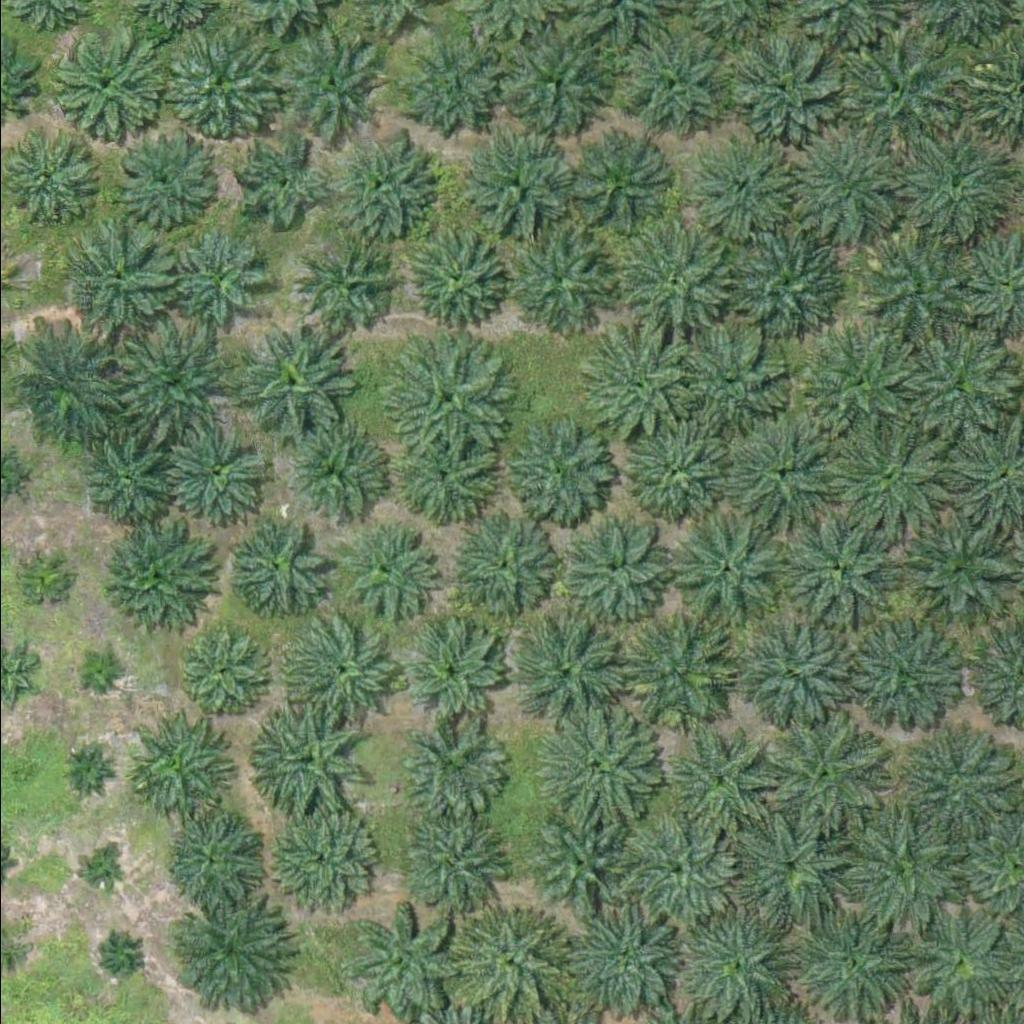Kelapa_Sawit: (841, 27, 967, 152), (712, 28, 838, 153), (492, 21, 618, 146), (774, 123, 900, 248), (884, 124, 1010, 249), (721, 221, 847, 346), (610, 217, 736, 342), (565, 325, 691, 450), (663, 318, 789, 443), (826, 410, 952, 535), (722, 412, 848, 537), (615, 408, 741, 533), (494, 404, 620, 529), (544, 506, 670, 631), (661, 506, 787, 631), (840, 616, 966, 741), (614, 612, 740, 737), (498, 611, 624, 736), (758, 709, 884, 834), (890, 716, 1016, 841), (827, 805, 953, 930), (724, 799, 850, 924), (602, 807, 728, 932), (551, 894, 677, 1019), (786, 897, 912, 1022), (244, 700, 370, 825), (278, 608, 404, 733), (383, 333, 509, 458), (113, 318, 239, 443), (2, 326, 128, 451), (779, 512, 904, 637), (891, 512, 1016, 637), (728, 612, 853, 737), (532, 707, 657, 832), (164, 896, 289, 1021), (156, 19, 281, 144), (37, 19, 162, 144), (94, 517, 208, 630), (612, 26, 725, 139), (905, 325, 1018, 438), (852, 234, 965, 347), (349, 908, 462, 1021), (263, 797, 376, 910), (57, 226, 170, 339), (322, 131, 435, 244), (391, 28, 504, 141), (273, 25, 386, 138), (164, 418, 278, 530), (244, 328, 358, 440), (562, 133, 675, 245), (496, 222, 609, 334), (454, 909, 567, 1021), (113, 706, 226, 818), (811, 333, 912, 433), (665, 732, 766, 832), (164, 807, 265, 907), (399, 813, 500, 913), (400, 712, 501, 812), (397, 622, 498, 722), (170, 621, 271, 721), (450, 510, 551, 610), (334, 522, 435, 622), (401, 424, 502, 524), (168, 230, 269, 330), (222, 134, 323, 234), (113, 129, 214, 229), (680, 145, 780, 245), (904, 913, 1004, 1013), (226, 514, 326, 614), (287, 427, 387, 527), (407, 227, 507, 327), (299, 236, 399, 336), (463, 139, 563, 239), (79, 436, 167, 524), (529, 817, 618, 904), (11, 544, 74, 607), (63, 745, 113, 795), (68, 646, 118, 696), (105, 936, 143, 974), (79, 853, 117, 890)
